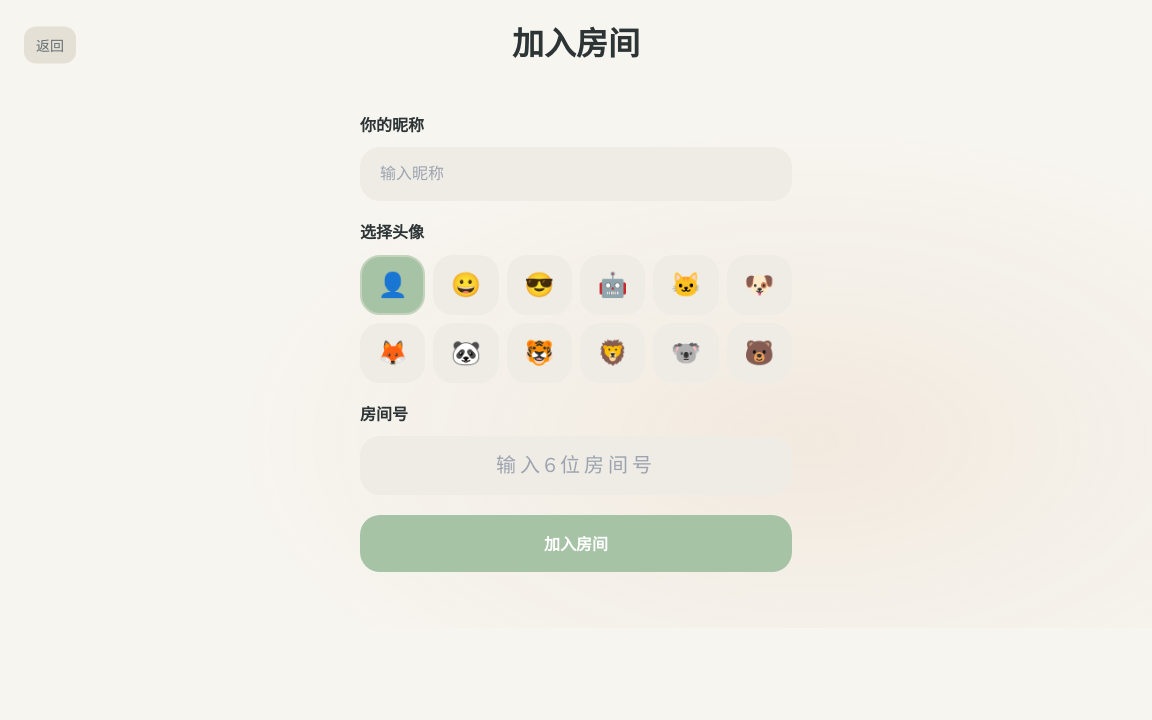
Test: JoinRoomView › 表单提交测试 › 提交时应该显示加载状态
Type "测试用户" into the field with placeholder "输入昵称" at (576, 174), box [360,147,792,201]
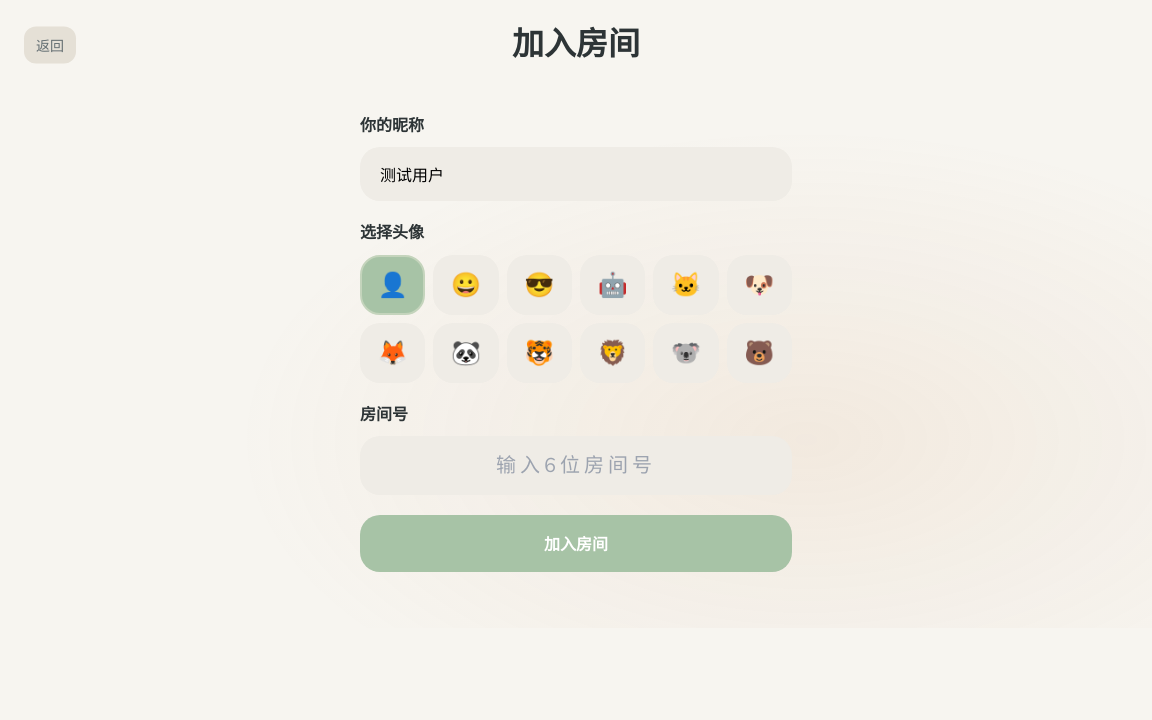
Type "ABC123" into the field with placeholder "输入6位房间号" at (576, 466), box [360,436,792,495]
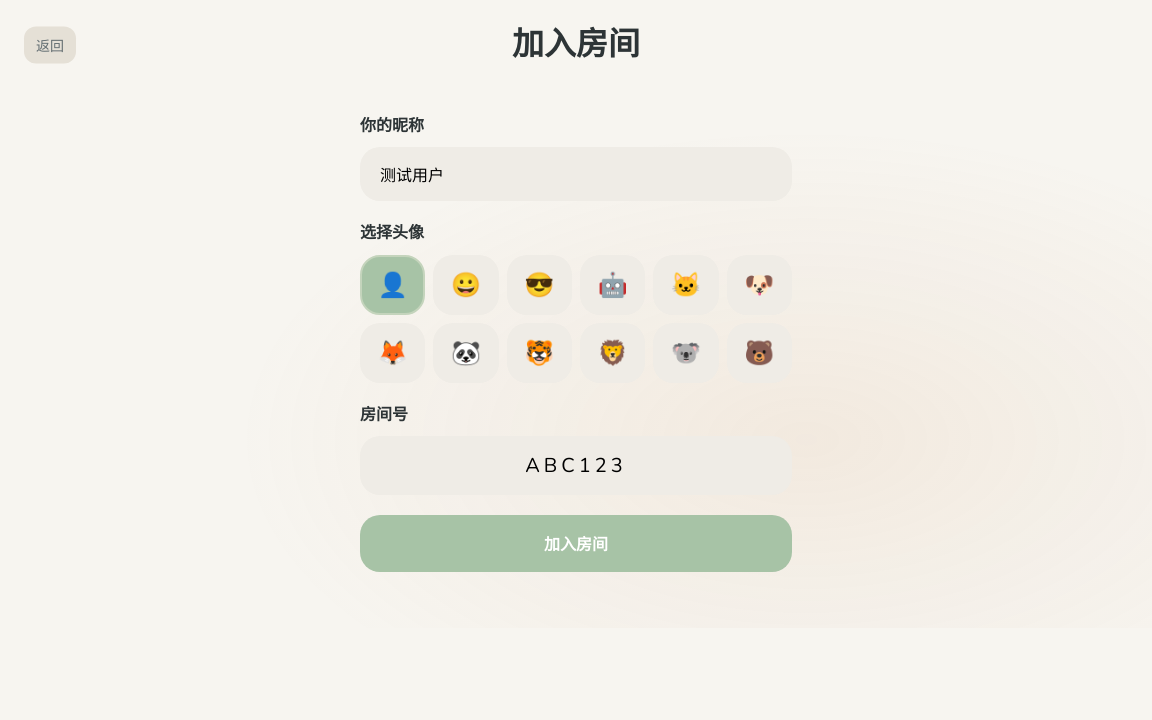
Submit the form, box [360,114,792,572]
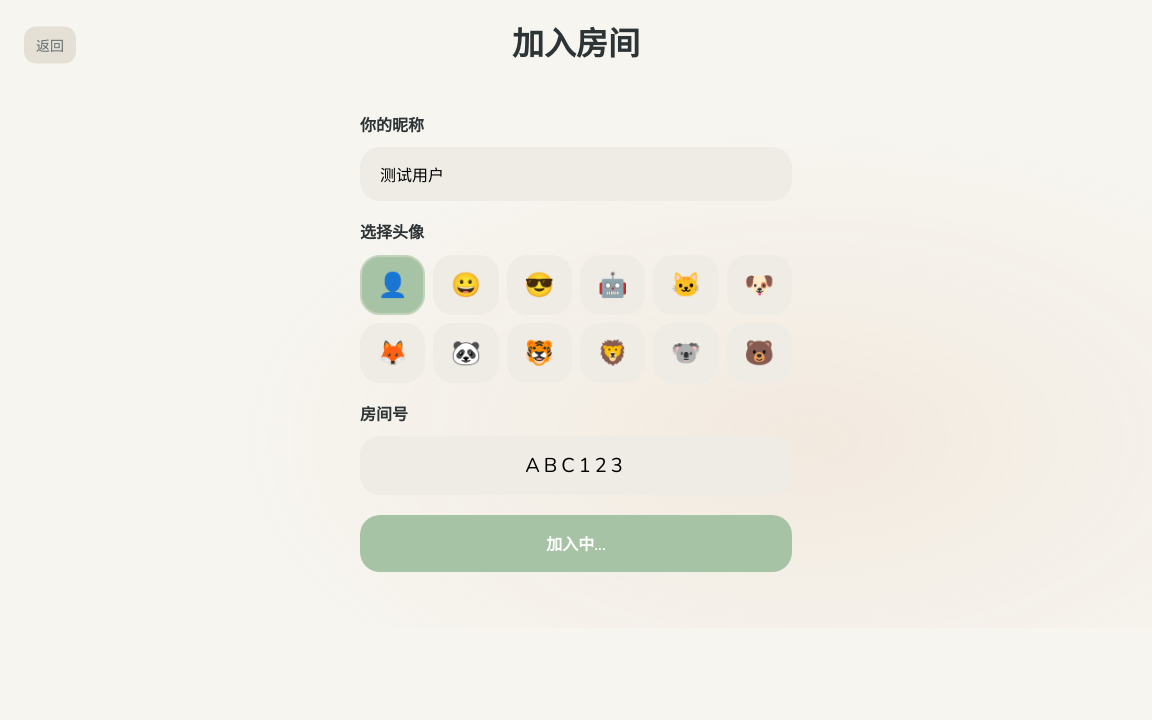
Expected: the submit button reads "加入中...", [360,515,792,572]
Expected: the submit button is disabled, [360,515,792,572]
